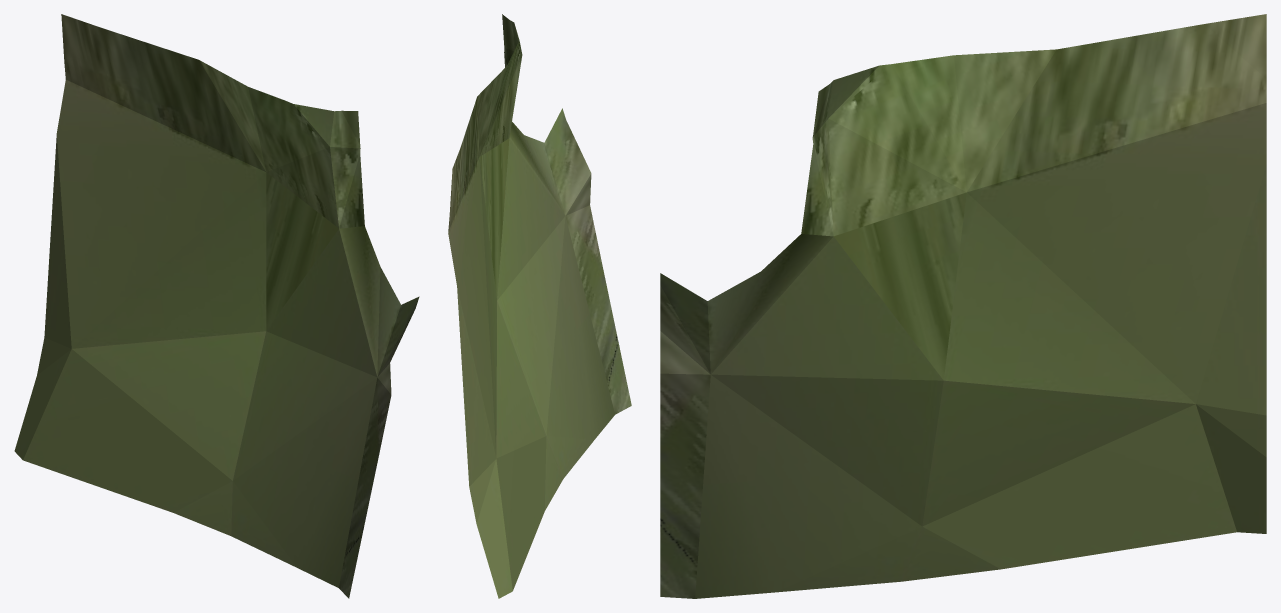
3 renders of one model, left to right at view 1: azimuth 30°, elevation 25°; view 2: azimuth 150°, elevation 25°; view 3: azimuth 270°, elevation 25°, orthographic. The views are drawn at different scales.
Bounding box in the file's own units: 1.25 × 2.95 × 2.95.
Materials: 2 (2 with a texture image).
